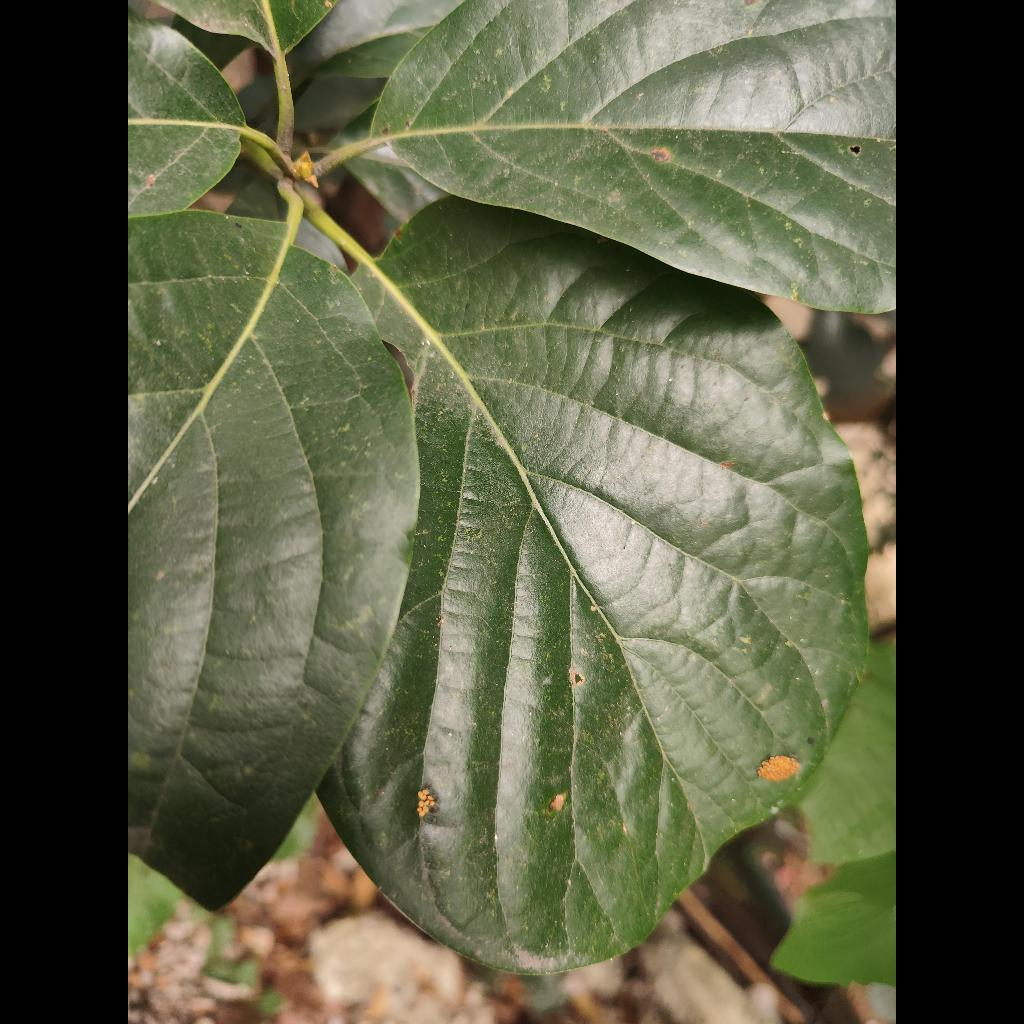antracnosis_hoja: (401, 3, 568, 90)
